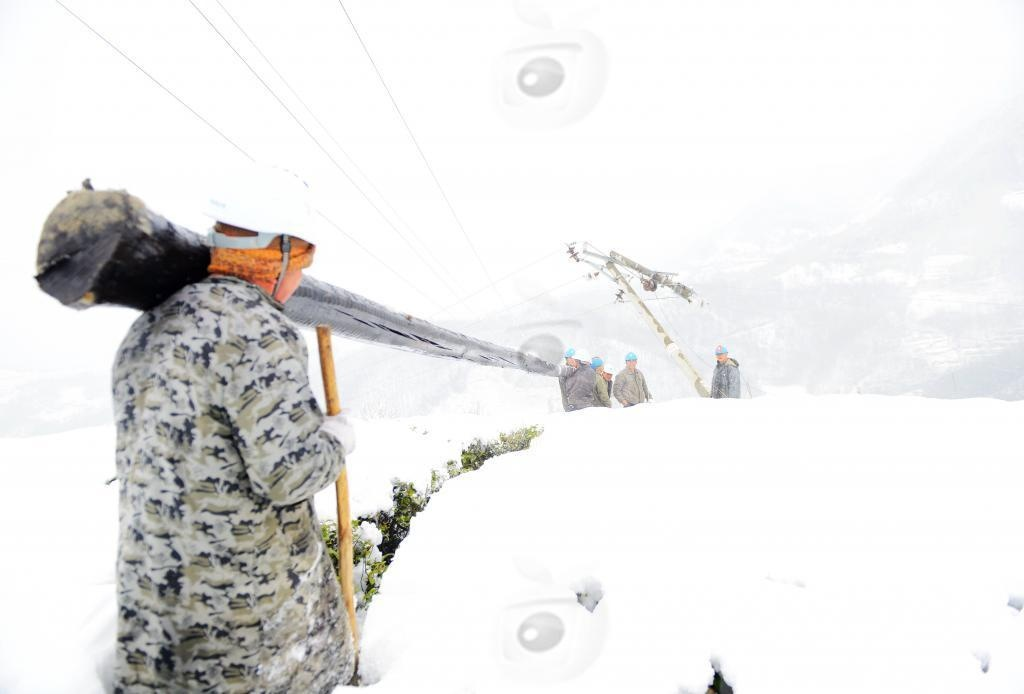blue: (586, 354, 605, 375), (622, 351, 638, 370), (713, 342, 727, 362), (562, 347, 577, 365)
white: (193, 160, 319, 291)
